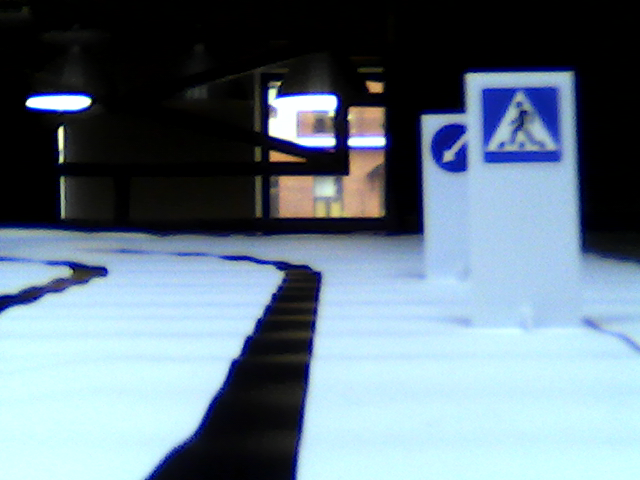pesh: (483, 89, 559, 161)
prep: (428, 123, 472, 175)
